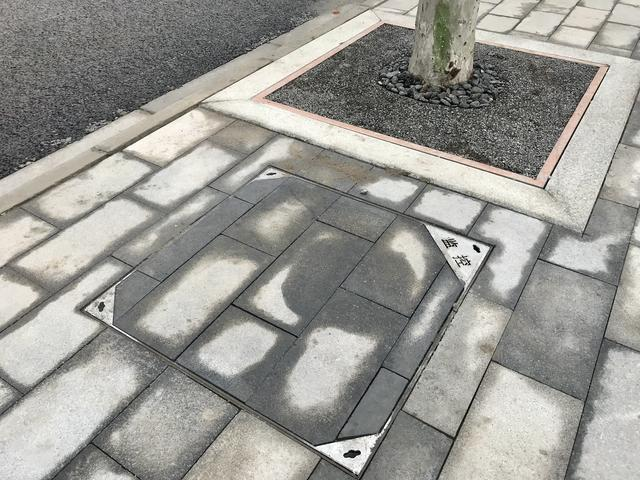wellcover: (65, 152, 528, 479)
